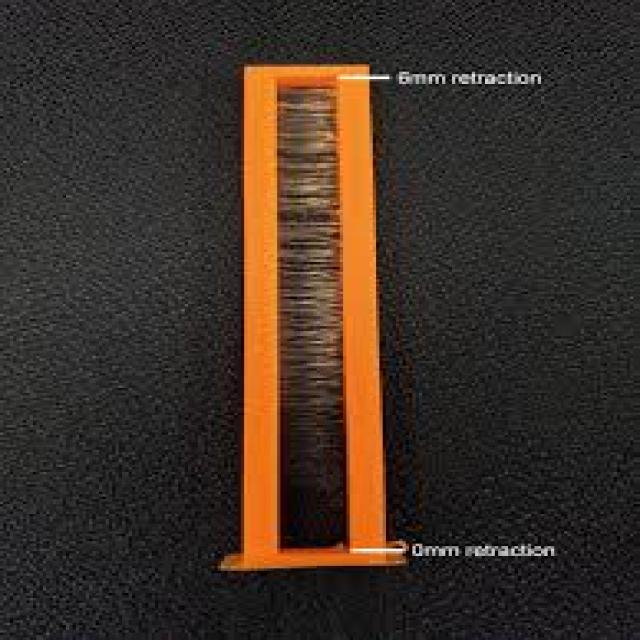Stringing: (258, 80, 362, 433)
